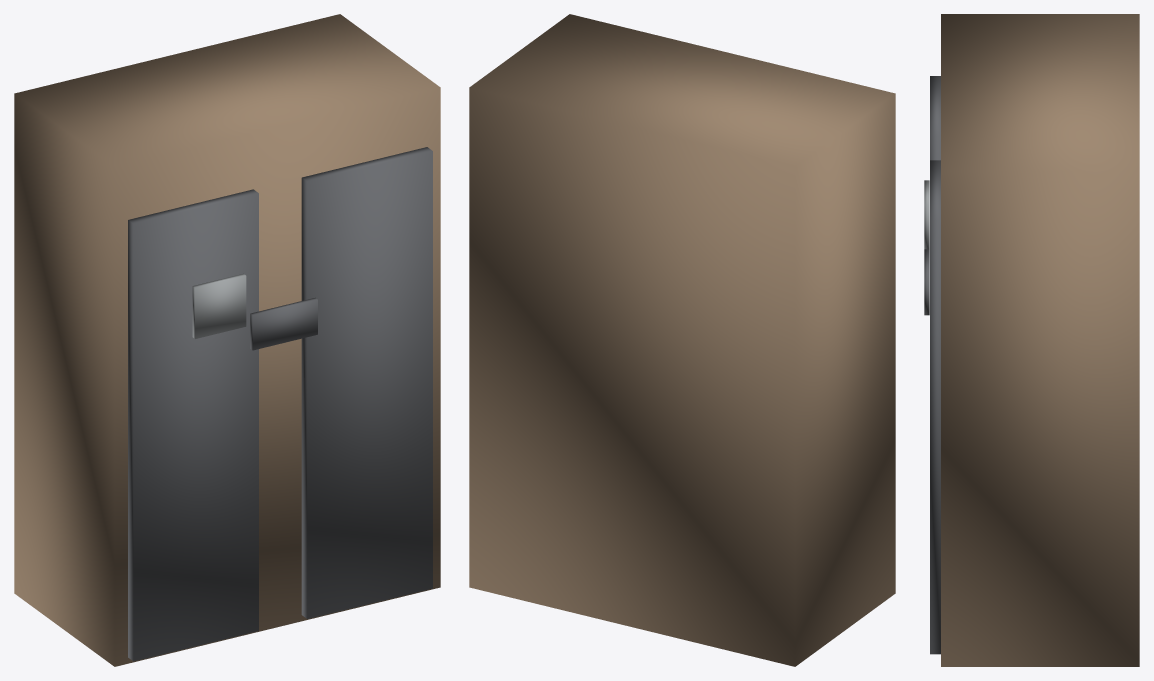
The model's file is confessional_booth__weathered.glb.
3 views of the same model, side by side, from view 1: azimuth 30°, elevation 25°; view 2: azimuth 150°, elevation 25°; view 3: azimuth 270°, elevation 25° (orthographic).
Visible parts, largest first — view 1: world; view 2: world; view 3: world.
Part boxes in pixels (box(x1,y1,x2,y2)): world: box(14, 14, 440, 666); world: box(469, 14, 895, 666); world: box(924, 14, 1139, 666).
Bounding box in the file's own units: 1.35 × 1.98 × 0.7801.
